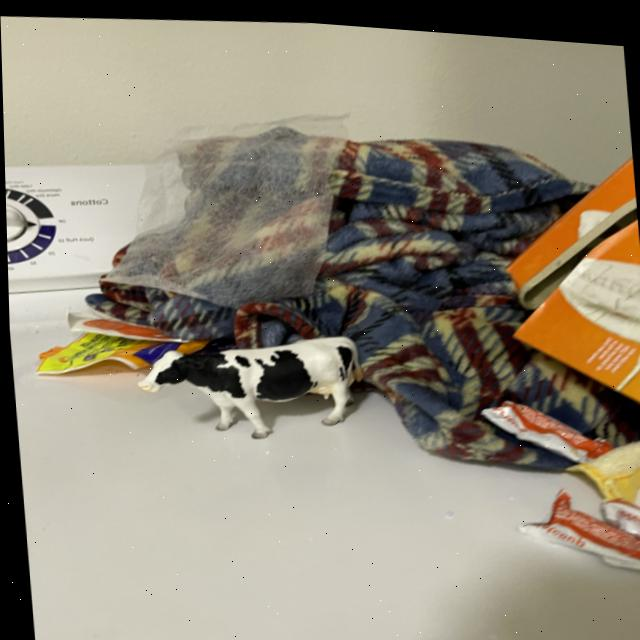cow: (132, 320, 368, 452)
